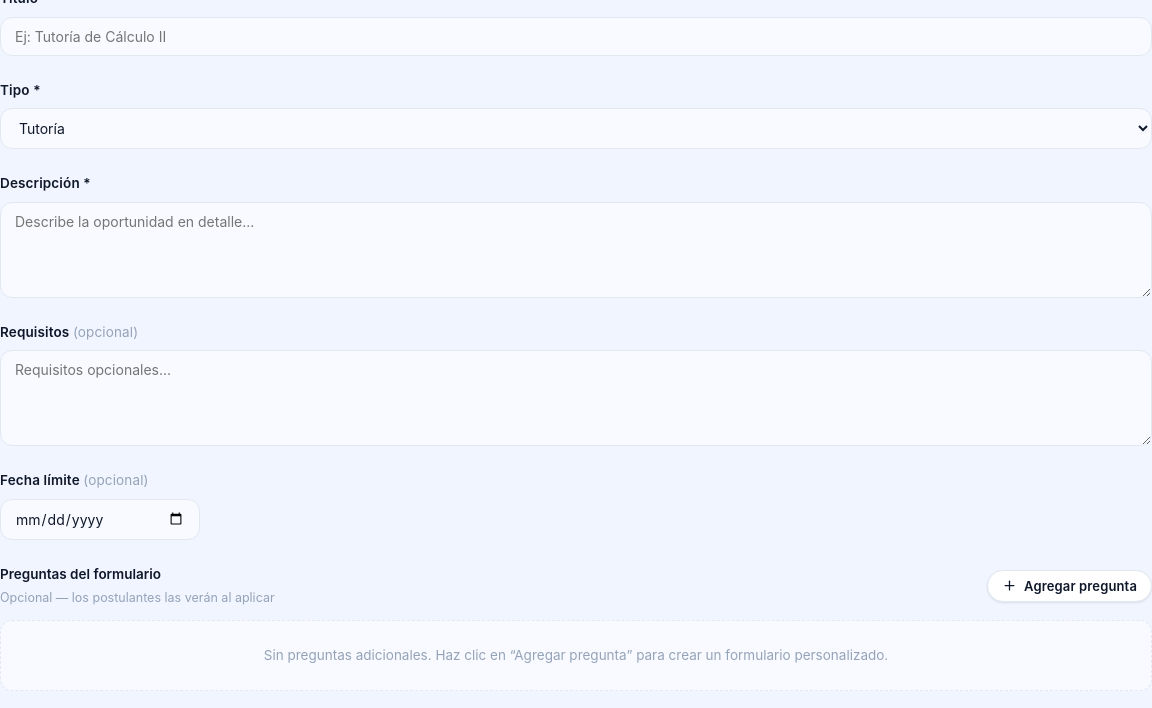
Test: OpportunityForm › shows an error when submit fails
This screenshot has width=1152, height=708.
Type "Título" into the field with test id "input-title" at (576, 36), box [0,17,1151,56]
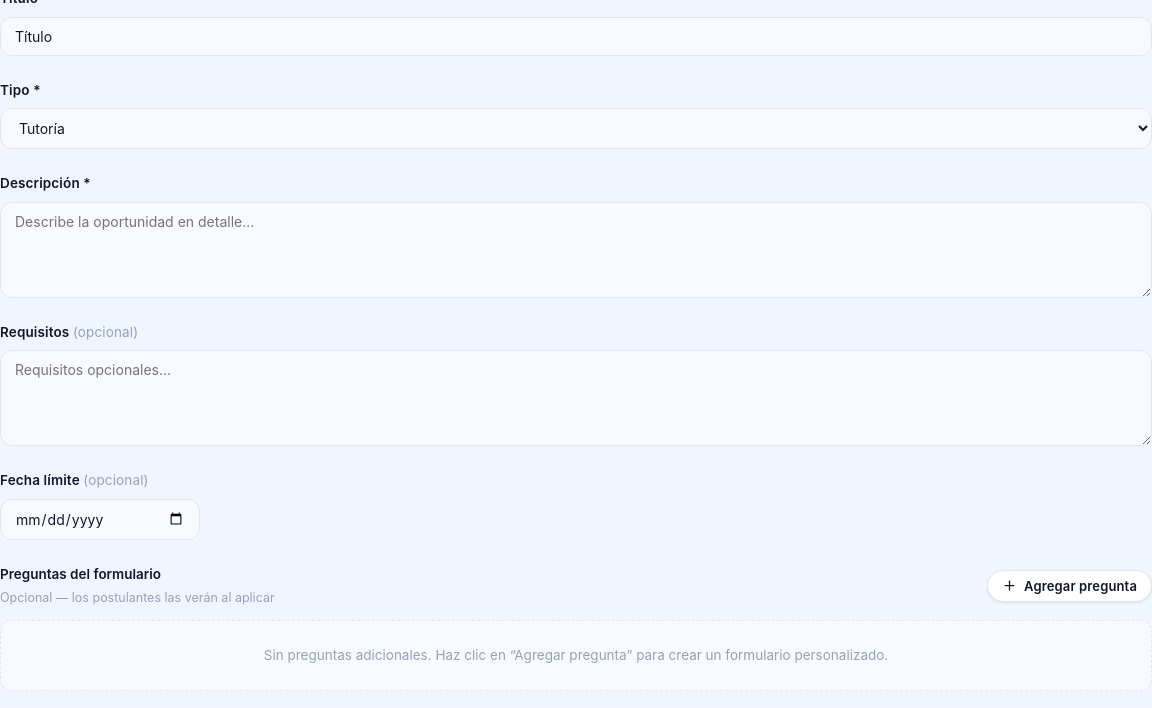
Type "Descripción" into the text box with test id "input-description" at (576, 250), box [0,202,1151,298]
(page scrolled)
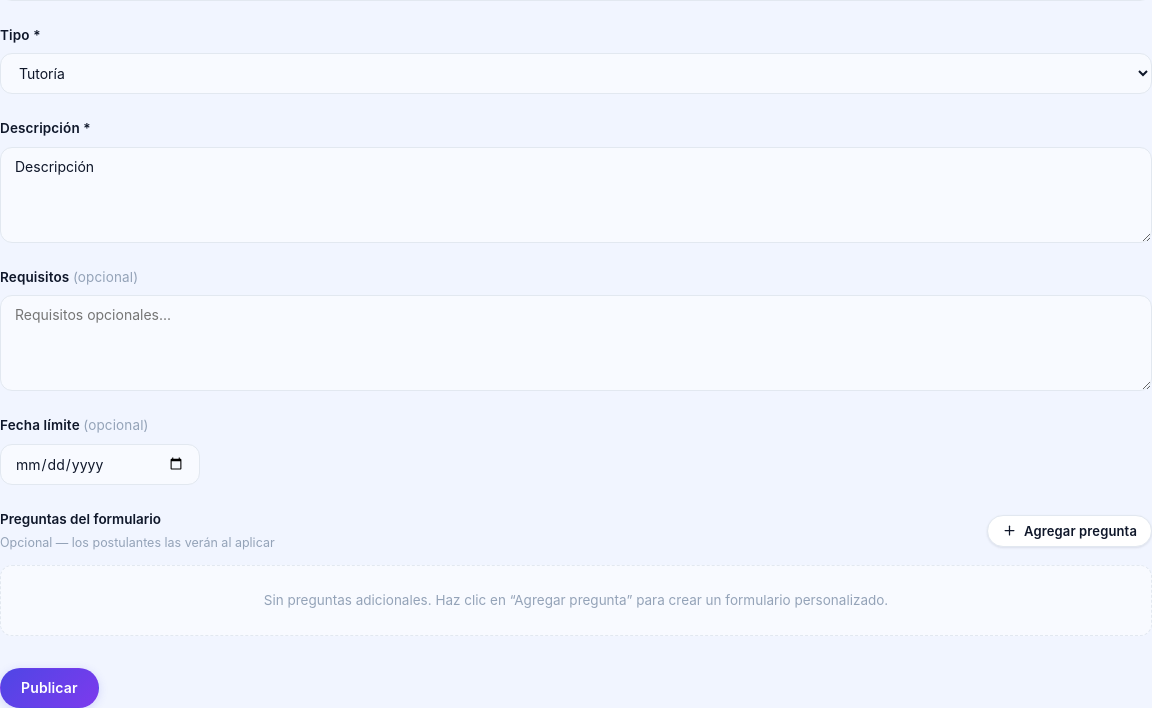
Click the button with test id "btn-submit" at (49, 688), box [0,668,99,707]
(page scrolled)
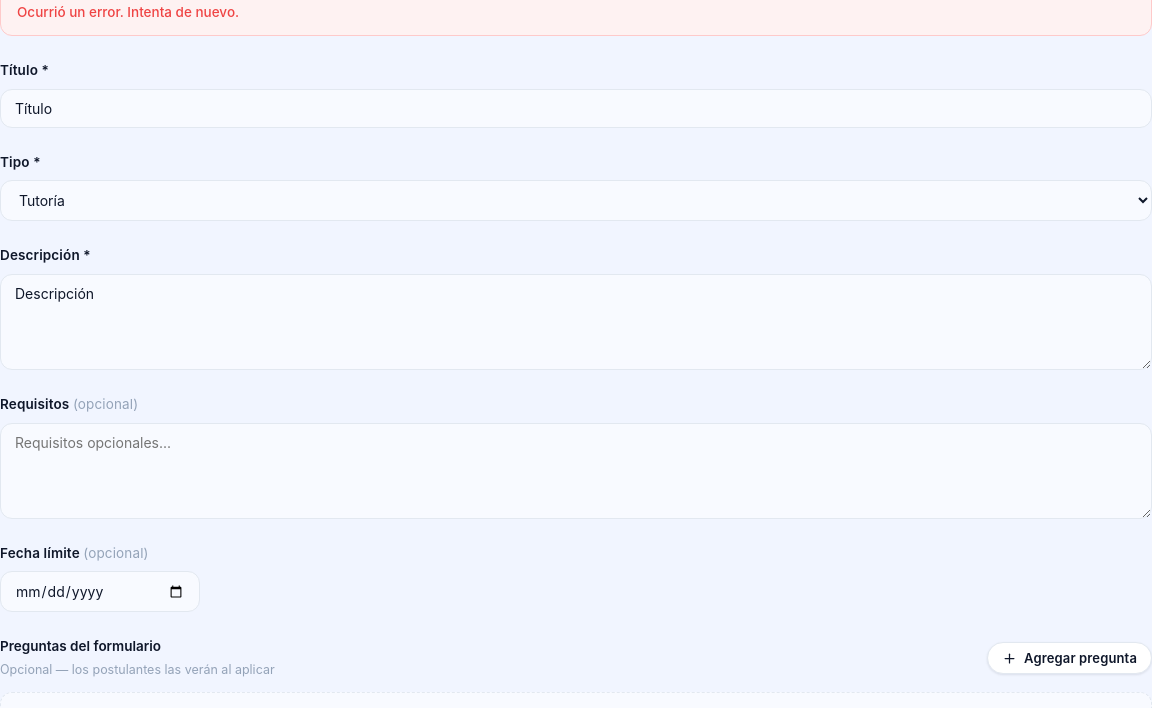
Result: the message reads "Ocurrió un error. Intenta de nuevo." at [17,4,239,20]
